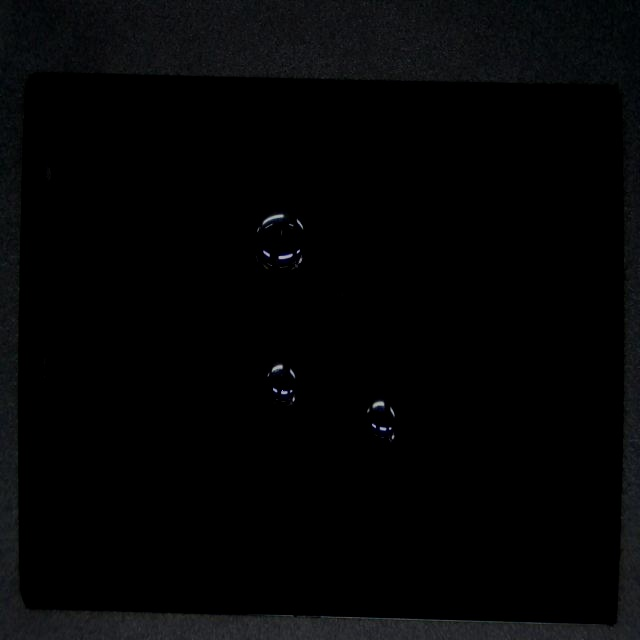oil: (201, 177, 560, 598), (121, 164, 395, 566), (121, 96, 381, 366)
